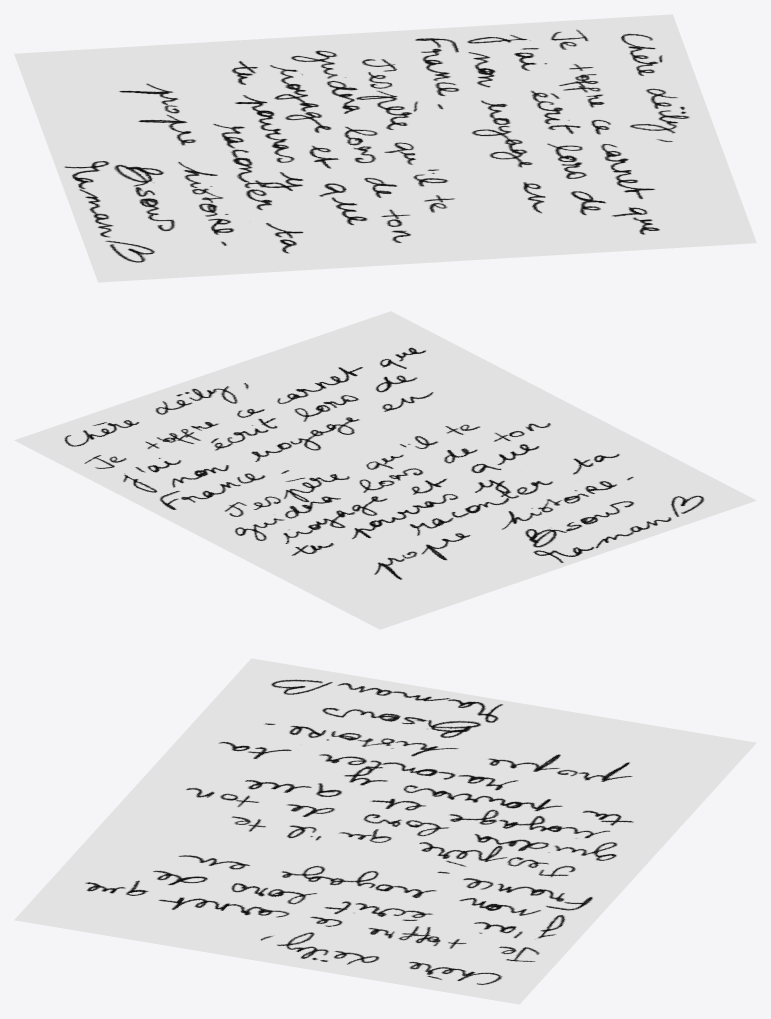
File: postIt1.glb
The picture shows the model from 3 angles, top to bottom: view 1: azimuth 30°, elevation 25°; view 2: azimuth 150°, elevation 25°; view 3: azimuth 270°, elevation 25°; orthographic projection. The views are drawn at different scales.
Parts seen in each view (by area): view 1: MomLetter; view 2: MomLetter; view 3: MomLetter.
Boxes of the visible parts, x1,y1,x2,y2 form: MomLetter: (14,14,756,282); MomLetter: (14,311,756,629); MomLetter: (14,658,756,1004).
Bounding box in the file's own units: 2.77 × 0.0186 × 2.55.
Materials: 1 (1 with a texture image).
